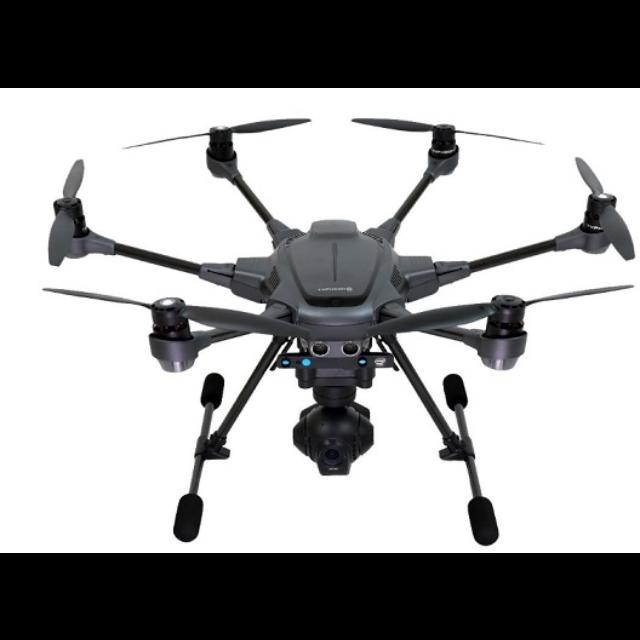Drone: (28, 125, 640, 459)
